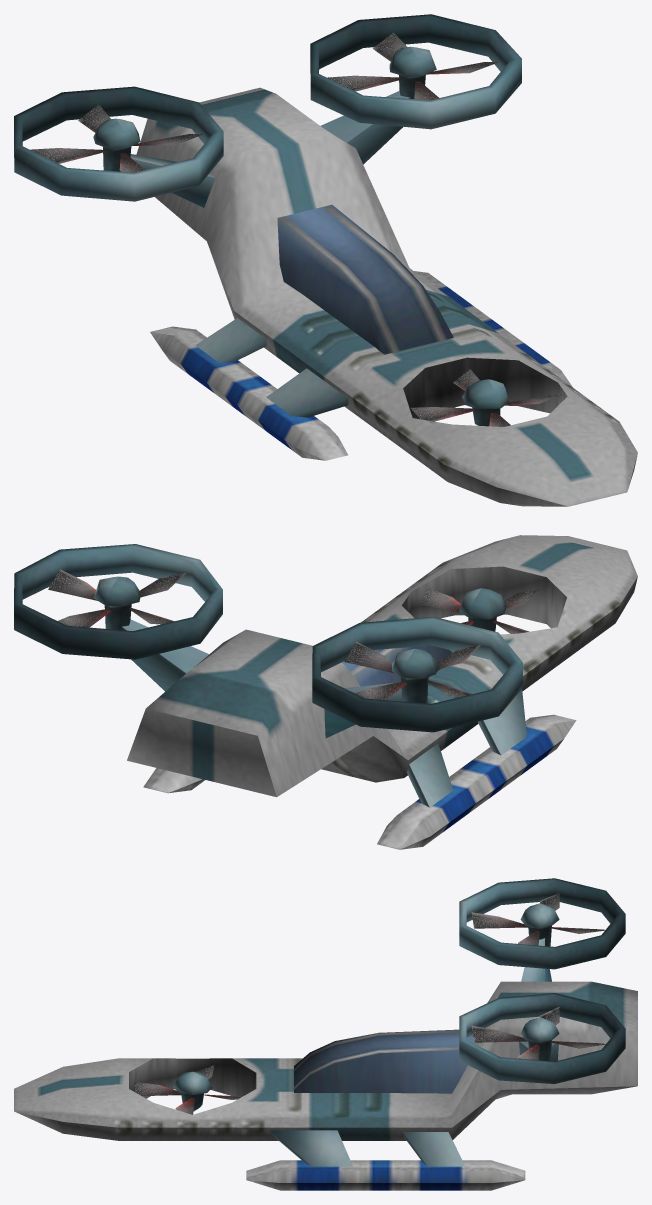
Rendered from hover.FBX.
The picture shows the model from 3 angles, top to bottom: view 1: azimuth 30°, elevation 25°; view 2: azimuth 150°, elevation 25°; view 3: azimuth 270°, elevation 25°; orthographic projection. The views are drawn at different scales.
Parts seen in each view (by area): view 1: hover; view 2: hover; view 3: hover.
Part boxes in pixels (bbox=[...]): hover: bbox=[14, 14, 637, 506]; hover: bbox=[14, 535, 637, 849]; hover: bbox=[14, 878, 637, 1190].
Size of the model in its own units: 246 by 348 by 110.
Materials: 1 (1 with a texture image).
